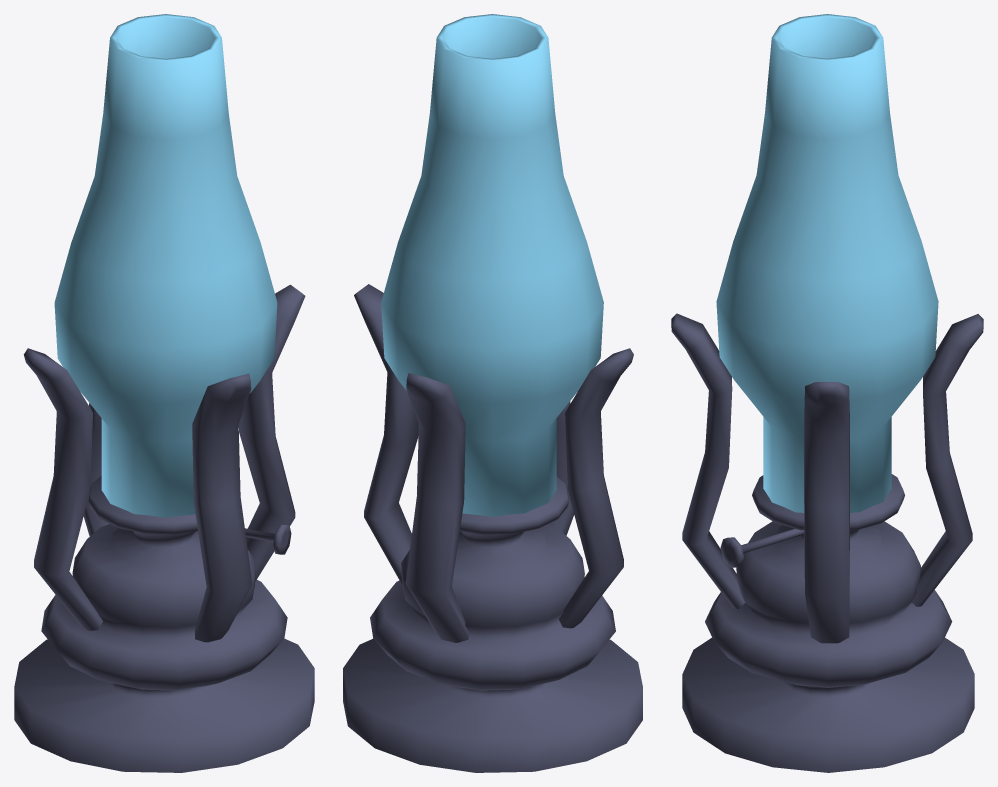
Rendered from OilLampVar2.fbx.
The picture shows the model from 3 angles, left to right: view 1: azimuth 30°, elevation 25°; view 2: azimuth 150°, elevation 25°; view 3: azimuth 270°, elevation 25°; orthographic projection.
Visible parts, largest first — view 1: OilLampVar2; view 2: OilLampVar2; view 3: OilLampVar2.
Boxes of the visible parts, bbox=[...] form: OilLampVar2: bbox=[14, 14, 314, 772]; OilLampVar2: bbox=[343, 14, 642, 772]; OilLampVar2: bbox=[671, 14, 983, 772].
Bounding box in the file's own units: 32.77 × 77.69 × 32.77.
